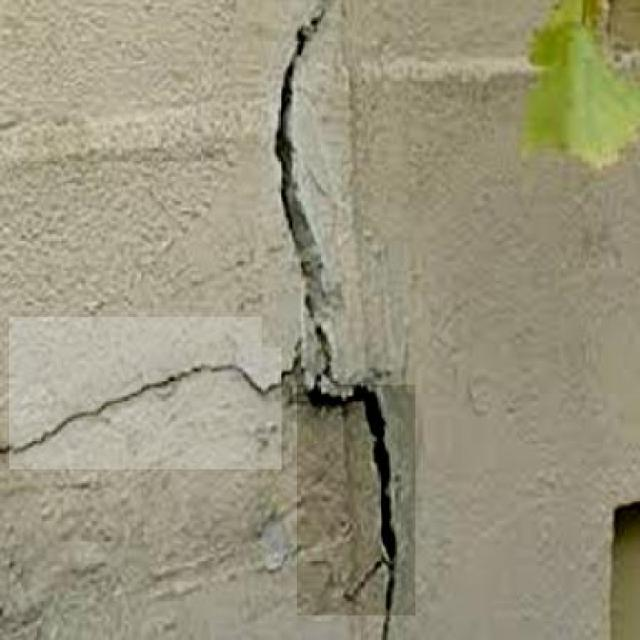Crack: (246, 8, 414, 376), (5, 335, 277, 470), (303, 384, 415, 640)
